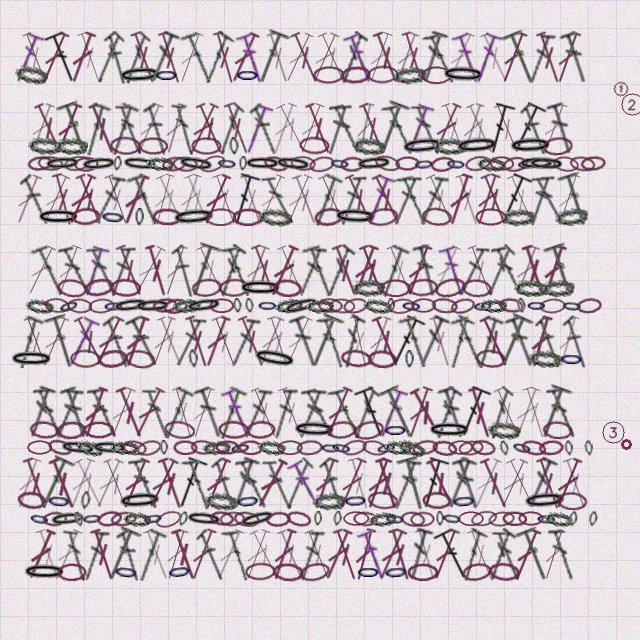chain: (251, 346, 298, 371), (400, 135, 446, 157), (171, 206, 217, 228), (454, 135, 500, 156), (117, 490, 163, 511), (522, 490, 568, 511), (282, 294, 321, 318), (238, 507, 277, 531), (117, 65, 163, 85), (441, 65, 486, 84), (508, 136, 553, 155), (333, 207, 378, 226), (292, 420, 337, 439), (433, 275, 467, 300), (352, 418, 386, 442), (298, 560, 332, 584), (36, 208, 81, 226), (238, 279, 283, 297), (9, 350, 54, 368), (427, 421, 472, 439), (22, 563, 67, 581), (14, 63, 49, 86), (554, 205, 589, 228), (392, 64, 427, 86), (177, 154, 215, 174), (83, 276, 115, 299), (366, 206, 399, 228), (163, 419, 196, 441), (112, 296, 150, 315), (185, 296, 223, 315), (56, 277, 88, 299), (124, 348, 156, 370), (461, 561, 493, 583), (80, 155, 118, 173), (121, 155, 159, 173), (274, 155, 312, 173), (59, 439, 97, 457), (49, 510, 87, 528), (185, 510, 223, 528), (396, 437, 427, 459), (352, 136, 386, 156), (258, 207, 292, 227), (501, 207, 535, 227), (541, 278, 575, 298), (487, 420, 521, 440), (204, 491, 238, 511), (312, 491, 346, 511), (313, 206, 345, 227), (421, 206, 453, 227), (340, 348, 372, 369), (475, 348, 507, 369), (16, 490, 48, 511), (367, 490, 399, 511), (488, 561, 520, 582), (198, 152, 227, 175), (191, 277, 222, 298), (97, 348, 128, 369), (355, 155, 393, 172), (528, 349, 562, 368), (556, 491, 588, 511), (272, 562, 304, 582), (154, 508, 183, 530), (44, 155, 81, 172), (28, 136, 61, 155), (352, 278, 385, 297), (340, 65, 371, 85), (542, 136, 573, 156), (272, 278, 303, 298), (461, 278, 492, 298), (367, 349, 398, 369), (29, 420, 60, 440), (56, 420, 87, 440), (326, 420, 357, 440), (542, 420, 573, 440), (373, 153, 402, 174), (340, 437, 369, 458), (407, 278, 439, 297), (75, 438, 105, 458), (55, 137, 88, 155), (433, 137, 466, 155), (514, 279, 547, 297), (528, 156, 565, 172), (134, 298, 171, 314), (91, 440, 128, 456), (367, 65, 398, 84), (110, 136, 141, 155), (299, 136, 330, 155), (110, 278, 141, 297), (70, 349, 101, 368), (218, 420, 249, 439), (245, 562, 276, 581), (46, 437, 74, 458), (71, 207, 101, 226), (219, 278, 249, 297), (274, 296, 304, 315), (246, 420, 276, 439), (422, 491, 452, 510), (166, 561, 193, 582), (262, 154, 290, 174), (308, 154, 336, 174), (449, 296, 477, 316), (135, 438, 163, 458), (313, 66, 344, 84), (421, 66, 452, 84), (191, 137, 222, 155), (205, 208, 236, 226), (232, 208, 263, 226), (475, 208, 506, 226), (380, 279, 411, 297), (83, 421, 114, 439), (407, 563, 438, 581), (244, 156, 281, 171), (518, 156, 555, 171), (138, 137, 168, 155), (152, 208, 182, 226), (361, 438, 388, 458), (520, 438, 547, 458), (285, 509, 312, 529), (57, 563, 87, 581), (63, 154, 91, 173), (464, 154, 492, 173), (411, 438, 439, 457), (470, 509, 498, 528), (25, 297, 54, 315), (363, 297, 392, 315), (368, 510, 397, 528), (544, 510, 573, 528), (100, 207, 126, 227), (46, 491, 72, 511), (235, 491, 261, 511), (451, 491, 477, 511), (113, 562, 139, 582), (383, 562, 409, 582), (342, 296, 369, 315), (470, 438, 497, 457), (96, 509, 123, 528), (552, 155, 580, 173), (172, 297, 201, 314), (202, 439, 231, 456), (257, 439, 286, 456), (161, 155, 188, 173), (502, 155, 529, 173), (569, 155, 596, 173), (162, 297, 189, 315), (388, 297, 415, 315), (121, 439, 148, 457), (431, 439, 458, 457), (110, 510, 137, 528), (233, 510, 260, 528), (488, 510, 515, 528), (57, 296, 81, 316), (510, 438, 534, 458), (343, 491, 368, 510), (430, 155, 456, 173), (458, 439, 484, 457), (400, 510, 426, 528), (37, 155, 64, 172), (431, 297, 458, 314), (296, 439, 323, 456), (154, 66, 179, 84), (235, 66, 260, 84), (559, 350, 584, 368), (383, 421, 408, 439), (356, 563, 381, 581), (477, 156, 505, 172), (306, 298, 334, 314), (123, 511, 151, 527), (27, 155, 53, 172), (290, 155, 316, 172), (580, 155, 606, 172), (44, 297, 70, 314), (152, 297, 178, 314), (317, 297, 343, 314), (498, 297, 524, 314), (576, 297, 602, 314), (190, 439, 216, 456), (538, 439, 564, 456), (209, 510, 235, 527), (88, 298, 115, 314), (539, 298, 566, 314), (219, 511, 246, 527), (146, 156, 174, 171), (479, 298, 507, 313), (110, 440, 138, 455), (384, 440, 412, 455), (172, 156, 198, 172), (329, 298, 355, 314), (42, 511, 68, 527), (265, 511, 291, 527), (229, 439, 252, 457), (330, 439, 353, 457), (375, 439, 398, 457), (28, 510, 51, 528), (74, 156, 99, 172), (340, 156, 365, 172), (67, 298, 92, 314), (353, 511, 378, 527), (410, 511, 435, 527), (277, 440, 303, 455), (343, 511, 369, 526), (458, 511, 484, 526), (518, 511, 544, 526), (395, 156, 420, 171), (489, 156, 514, 171), (209, 298, 234, 313), (411, 298, 436, 313), (27, 440, 52, 455), (173, 440, 198, 455), (215, 440, 240, 455), (238, 440, 263, 455), (448, 440, 473, 455), (502, 511, 527, 526), (216, 155, 238, 172), (329, 155, 351, 172), (81, 510, 103, 527), (142, 510, 164, 527), (441, 510, 463, 527), (413, 156, 435, 172), (445, 156, 467, 172), (516, 156, 538, 172), (472, 298, 494, 314), (561, 298, 583, 314), (384, 511, 406, 527), (103, 298, 124, 314), (401, 298, 422, 314), (320, 440, 341, 456), (536, 511, 557, 527), (257, 298, 278, 313), (526, 298, 547, 313), (188, 349, 199, 368), (80, 491, 91, 510), (73, 511, 85, 527), (177, 511, 189, 527), (229, 137, 239, 155), (499, 440, 510, 456), (135, 208, 144, 226), (405, 350, 414, 368), (564, 440, 574, 456), (584, 440, 594, 456), (568, 511, 578, 527), (588, 511, 598, 527), (113, 156, 122, 171), (233, 298, 242, 313), (245, 298, 254, 313), (517, 298, 526, 313), (333, 511, 342, 526), (239, 156, 247, 171), (387, 298, 395, 313), (160, 440, 168, 455), (314, 511, 322, 526), (436, 511, 444, 526)
double: (378, 384, 421, 441), (33, 455, 76, 512), (432, 526, 475, 583), (506, 100, 548, 157), (385, 313, 427, 370), (501, 29, 542, 86), (493, 171, 534, 228), (304, 313, 345, 370), (493, 313, 534, 370), (101, 526, 142, 583), (43, 29, 83, 86), (251, 29, 291, 86), (453, 384, 493, 441), (515, 526, 555, 583), (128, 243, 169, 298), (406, 385, 447, 440), (56, 100, 95, 157), (372, 100, 411, 157), (353, 384, 392, 441), (534, 384, 573, 441), (272, 101, 312, 156), (70, 314, 110, 369), (124, 314, 164, 369), (251, 456, 291, 511), (245, 527, 285, 582), (29, 243, 68, 299), (156, 385, 195, 441), (557, 171, 595, 228), (184, 242, 222, 299), (543, 242, 581, 299), (171, 455, 209, 512), (21, 243, 60, 298), (89, 314, 128, 369), (129, 385, 168, 440), (70, 456, 109, 511), (143, 456, 182, 511), (502, 456, 541, 511), (198, 30, 236, 86), (422, 30, 460, 86), (306, 172, 344, 228), (373, 243, 411, 299), (449, 314, 487, 370), (327, 385, 365, 441), (130, 527, 168, 583), (44, 313, 81, 370), (286, 457, 325, 511), (225, 30, 263, 85), (279, 30, 317, 85), (441, 30, 479, 85), (476, 30, 514, 85), (30, 101, 68, 156), (184, 101, 222, 156), (427, 101, 465, 156), (36, 172, 74, 227), (152, 172, 190, 227), (341, 172, 379, 227), (368, 172, 406, 227), (192, 243, 230, 298), (427, 243, 465, 298), (63, 314, 101, 369), (476, 314, 514, 369), (422, 456, 460, 511), (468, 456, 506, 511), (179, 30, 216, 86), (103, 101, 140, 157), (381, 101, 418, 157), (125, 172, 162, 228), (395, 172, 432, 228), (211, 385, 248, 441), (226, 171, 262, 228), (396, 455, 432, 512), (415, 455, 451, 512), (36, 30, 73, 85), (287, 30, 324, 85), (306, 30, 343, 85), (314, 30, 351, 85), (192, 101, 229, 156), (462, 101, 499, 156), (63, 172, 100, 227), (198, 172, 235, 227), (252, 172, 289, 227), (314, 172, 351, 227), (422, 172, 459, 227), (503, 172, 540, 227), (265, 243, 302, 298), (273, 243, 310, 298), (36, 314, 73, 369), (279, 314, 316, 369), (368, 314, 405, 369), (414, 314, 451, 369), (246, 385, 283, 440), (90, 456, 127, 511), (117, 456, 154, 511), (333, 456, 370, 511), (476, 456, 513, 511), (495, 456, 532, 511), (522, 456, 559, 511), (49, 527, 86, 582), (211, 527, 248, 582), (273, 527, 310, 582), (319, 527, 356, 582), (373, 527, 410, 582), (220, 243, 256, 299), (469, 314, 505, 370), (145, 30, 181, 85), (50, 101, 86, 156), (131, 101, 167, 156), (301, 101, 337, 156), (355, 101, 391, 156), (10, 172, 46, 227), (72, 172, 108, 227), (180, 172, 216, 227), (280, 172, 316, 227), (477, 172, 513, 227), (112, 243, 148, 298), (382, 243, 418, 298), (153, 314, 189, 369), (234, 314, 270, 369), (504, 314, 540, 369), (112, 385, 148, 440), (320, 385, 356, 440), (490, 385, 526, 440), (45, 456, 81, 511), (199, 456, 235, 511), (442, 456, 478, 511), (550, 456, 586, 511), (23, 527, 59, 582), (139, 527, 175, 582), (463, 527, 499, 582), (77, 101, 112, 157), (482, 101, 517, 157), (301, 243, 336, 299), (10, 314, 45, 370), (320, 244, 356, 298), (10, 30, 45, 85), (18, 30, 53, 85), (342, 30, 377, 85), (369, 30, 404, 85), (496, 30, 531, 85), (85, 101, 120, 156), (220, 101, 255, 156), (293, 101, 328, 156), (490, 101, 525, 156), (536, 101, 571, 156), (118, 172, 153, 227), (288, 172, 323, 227), (239, 243, 274, 298), (247, 243, 282, 298), (328, 243, 363, 298), (347, 243, 382, 298), (355, 243, 390, 298), (401, 243, 436, 298), (463, 243, 498, 298), (509, 243, 544, 298), (199, 314, 234, 369), (207, 314, 242, 369), (253, 314, 288, 369), (288, 314, 323, 369), (104, 385, 139, 440), (193, 385, 228, 440), (220, 385, 255, 440), (274, 385, 309, 440), (374, 385, 409, 440), (509, 385, 544, 440), (64, 456, 99, 511), (99, 456, 134, 511), (361, 456, 396, 511), (185, 527, 220, 582), (239, 527, 274, 582), (301, 527, 336, 582), (428, 527, 463, 582), (509, 527, 544, 582), (261, 173, 297, 226), (531, 173, 567, 226), (397, 314, 431, 370), (181, 456, 215, 512), (334, 31, 369, 85), (58, 244, 93, 298), (301, 386, 336, 440), (482, 528, 517, 582), (65, 30, 99, 85), (73, 30, 107, 85), (127, 30, 161, 85), (173, 30, 207, 85), (362, 30, 396, 85), (389, 30, 423, 85), (532, 30, 566, 85), (551, 30, 585, 85), (559, 30, 593, 85), (24, 101, 58, 156), (240, 101, 274, 156), (267, 101, 301, 156), (437, 101, 471, 156), (100, 172, 134, 227), (208, 172, 242, 227), (362, 172, 396, 227), (451, 172, 485, 227), (470, 172, 504, 227), (51, 243, 85, 298), (19, 314, 53, 369), (119, 314, 153, 369), (146, 314, 180, 369), (362, 314, 396, 369), (59, 385, 93, 440), (78, 385, 112, 440), (402, 385, 436, 440), (11, 456, 45, 511), (19, 456, 53, 511), (154, 456, 188, 511), (227, 456, 261, 511), (308, 456, 342, 511), (451, 456, 485, 511), (532, 456, 566, 511), (32, 527, 66, 582), (167, 527, 201, 582), (329, 527, 363, 582), (356, 527, 390, 582), (18, 173, 53, 226), (91, 173, 126, 226), (482, 244, 517, 297), (172, 315, 207, 368), (316, 314, 349, 370), (443, 314, 476, 370), (221, 527, 254, 583), (456, 527, 489, 583), (86, 244, 120, 298), (213, 244, 247, 298), (491, 244, 525, 298), (227, 315, 261, 369), (429, 386, 463, 440), (235, 457, 269, 511), (281, 457, 315, 511), (194, 528, 228, 582), (154, 30, 187, 85), (235, 30, 268, 85), (262, 30, 295, 85), (451, 30, 484, 85), (470, 30, 503, 85), (402, 101, 435, 156), (456, 101, 489, 156), (173, 172, 206, 227), (443, 172, 476, 227), (551, 172, 584, 227), (159, 243, 192, 298), (518, 243, 551, 298), (537, 243, 570, 298), (181, 314, 214, 369), (24, 385, 57, 440), (186, 385, 219, 440), (437, 385, 470, 440), (464, 385, 497, 440), (518, 385, 551, 440), (559, 456, 592, 511), (267, 527, 300, 582), (92, 31, 126, 84), (456, 244, 490, 297), (248, 102, 281, 156), (329, 102, 362, 156), (518, 102, 551, 156), (416, 173, 449, 227), (240, 386, 273, 440), (262, 457, 295, 511), (398, 30, 430, 85), (417, 30, 449, 85), (546, 101, 578, 156), (236, 172, 268, 227), (141, 243, 173, 298), (263, 314, 295, 369), (552, 314, 584, 369), (371, 456, 403, 511), (87, 527, 119, 582), (160, 527, 192, 582), (384, 527, 416, 582), (538, 527, 570, 582), (120, 31, 152, 85), (214, 102, 246, 156), (411, 102, 443, 156), (390, 173, 422, 227), (295, 244, 327, 298), (101, 315, 133, 369), (533, 315, 565, 369), (52, 386, 84, 440), (87, 386, 119, 440), (295, 386, 327, 440), (349, 386, 381, 440), (546, 386, 578, 440), (128, 457, 160, 511), (390, 457, 422, 511), (209, 30, 240, 85), (160, 101, 191, 156), (79, 243, 110, 298), (438, 243, 469, 298), (425, 314, 456, 369), (525, 314, 556, 369), (168, 385, 199, 440), (344, 456, 375, 511), (411, 527, 442, 582), (525, 31, 556, 85), (33, 386, 64, 440), (209, 457, 240, 511), (317, 457, 348, 511), (492, 528, 523, 582), (48, 172, 78, 227), (148, 172, 178, 227), (412, 243, 442, 298), (350, 527, 380, 582), (404, 527, 434, 582), (115, 102, 145, 156), (337, 173, 367, 227), (561, 315, 591, 369), (142, 386, 172, 440), (485, 386, 515, 440), (80, 528, 110, 582), (337, 314, 366, 369), (345, 314, 374, 369), (102, 31, 131, 85), (142, 102, 171, 156), (526, 173, 555, 227), (107, 244, 136, 298), (115, 528, 144, 582), (296, 528, 325, 582), (351, 101, 379, 156), (548, 527, 576, 582), (324, 102, 352, 156), (170, 244, 198, 298), (270, 386, 298, 440), (171, 102, 197, 156), (63, 528, 89, 582)
noise: (600, 419, 627, 446), (619, 91, 640, 117), (611, 79, 630, 98), (619, 437, 633, 451)
